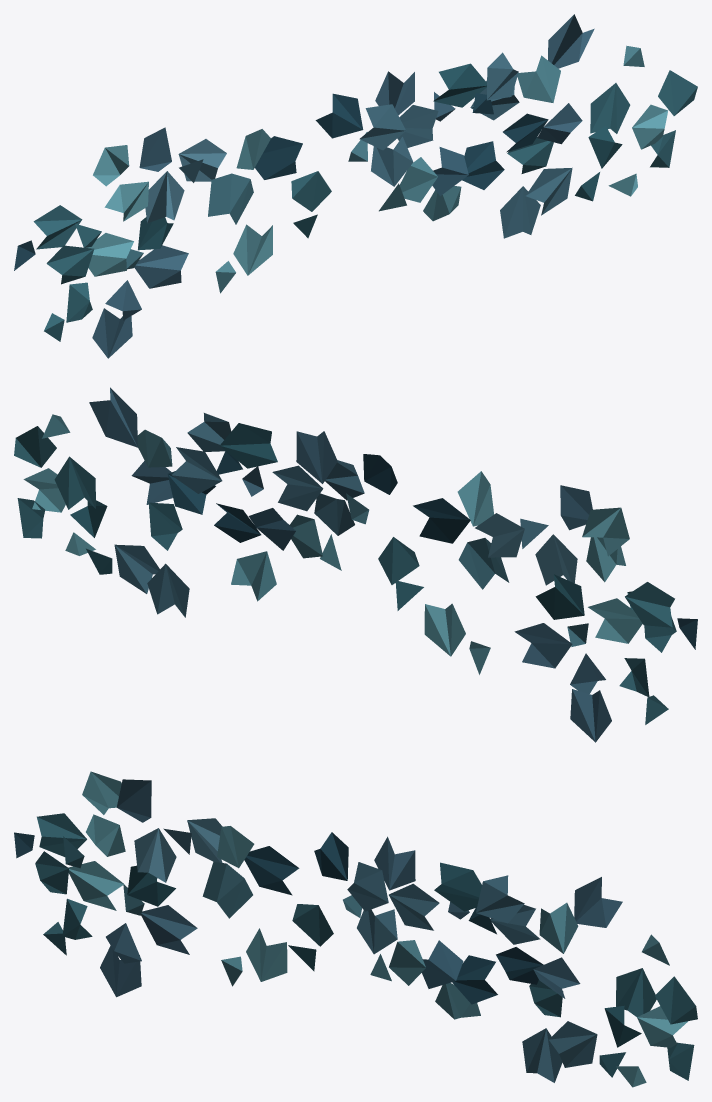
File: SM_Env_Ivy_07.fbx
The picture shows the model from 3 angles, top to bottom: view 1: azimuth 30°, elevation 25°; view 2: azimuth 150°, elevation 25°; view 3: azimuth 330°, elevation 25°; orthographic projection. The views are drawn at different scales.
Parts seen in each view (by area): view 1: SM_Env_Ivy_07; view 2: SM_Env_Ivy_07; view 3: SM_Env_Ivy_07.
Part boxes in pixels (x1,y1,x2,y2): SM_Env_Ivy_07: [14, 14, 697, 358]; SM_Env_Ivy_07: [14, 387, 697, 742]; SM_Env_Ivy_07: [14, 771, 697, 1087].
Size of the model in its own units: 5.01 by 1.64 by 0.2995.
1 material, 1 textured.
